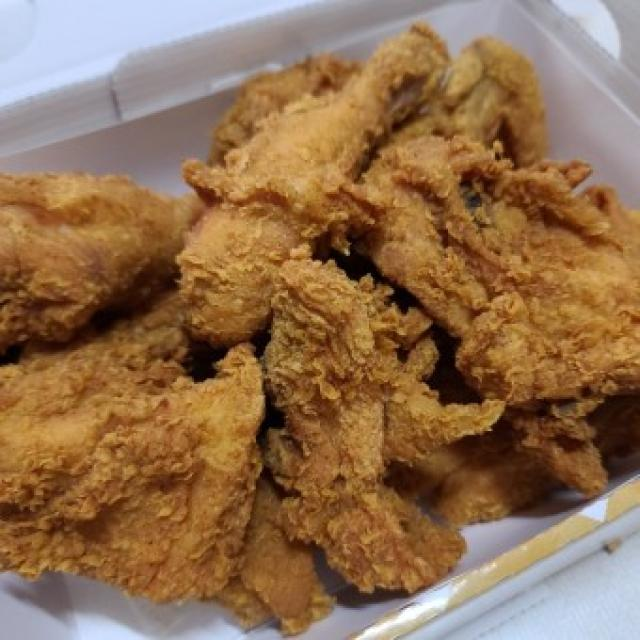Frango: (0, 16, 640, 638)
